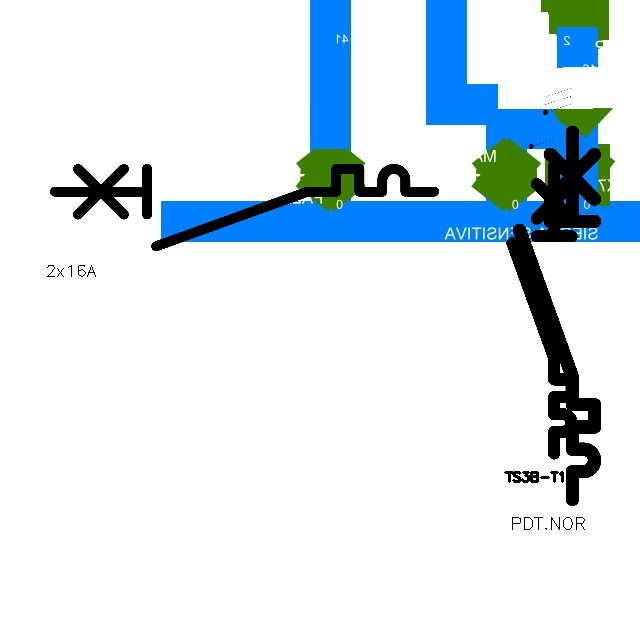interruptor_termomagnetico: (45, 159, 444, 256), (510, 122, 604, 509), (505, 159, 579, 461)
